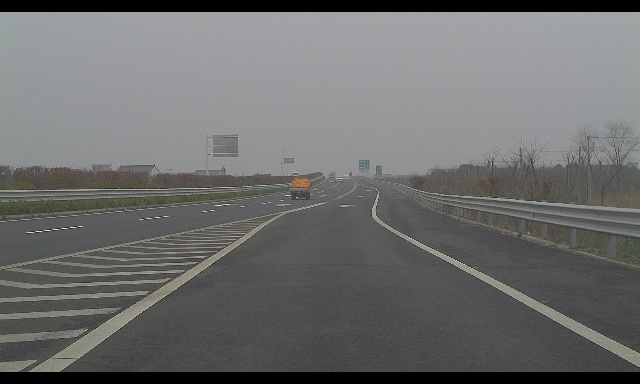car: (291, 172, 299, 178), (335, 177, 343, 183), (328, 173, 335, 179), (343, 175, 350, 181)
truck: (290, 177, 312, 200), (330, 172, 336, 178)
